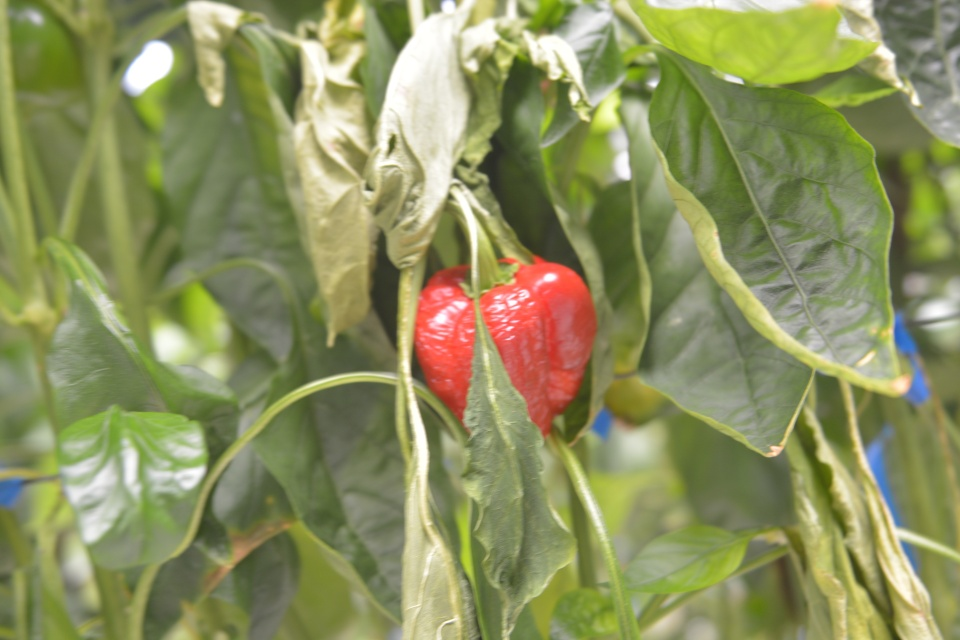fruit: (413, 252, 599, 442)
pedicle: (457, 261, 517, 296)
